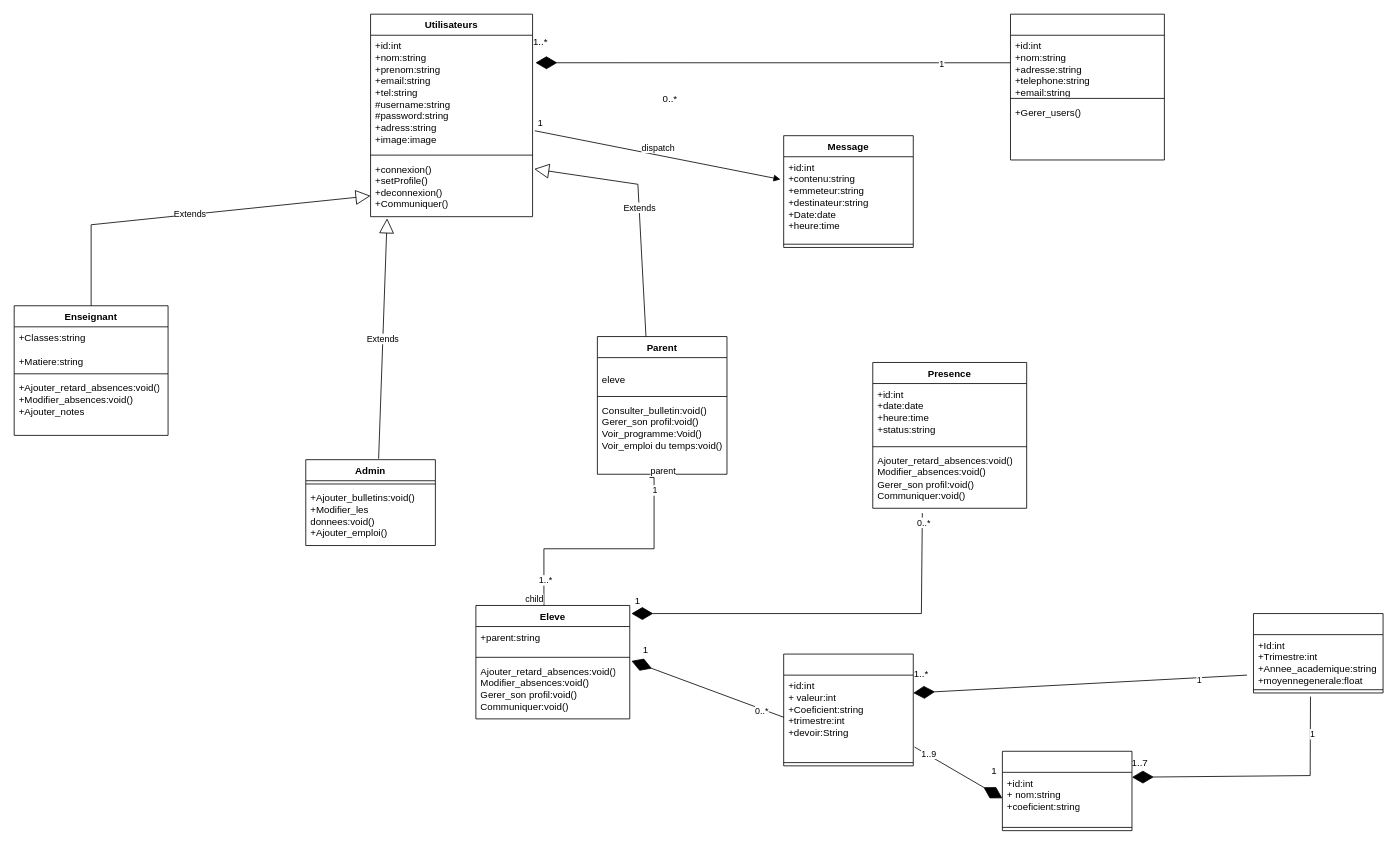
Image size: 1397x845. Some labels were removed from this diagram. Each missing label, with the box of its shape:
Bulletins: (1253, 613, 1383, 693)
Ecole: (1010, 13, 1164, 160)
Matiere: (1002, 750, 1132, 831)
Note: (783, 653, 913, 766)
